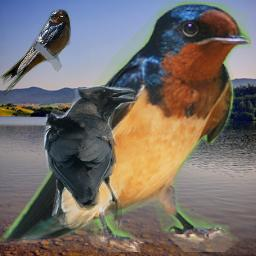Crow: (44, 82, 136, 230)
Swallow: (0, 1, 251, 252), (0, 9, 71, 99)
